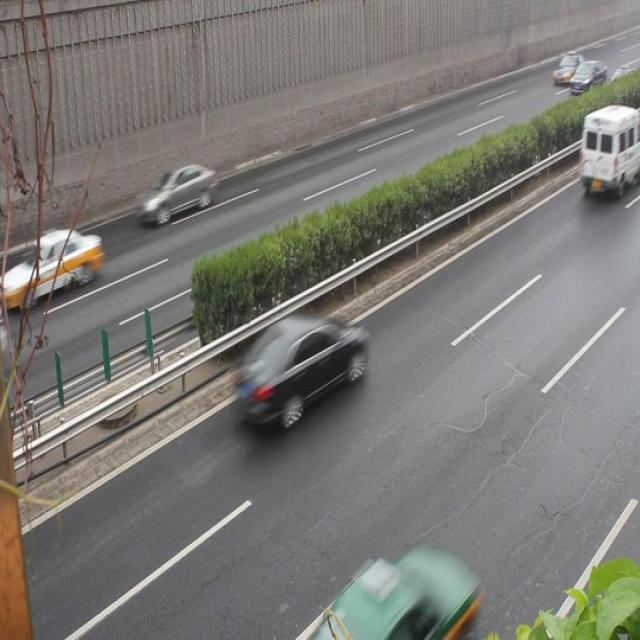car: (321, 543, 479, 640), (238, 317, 365, 427), (16, 227, 103, 303), (580, 107, 640, 194), (138, 163, 216, 223)
